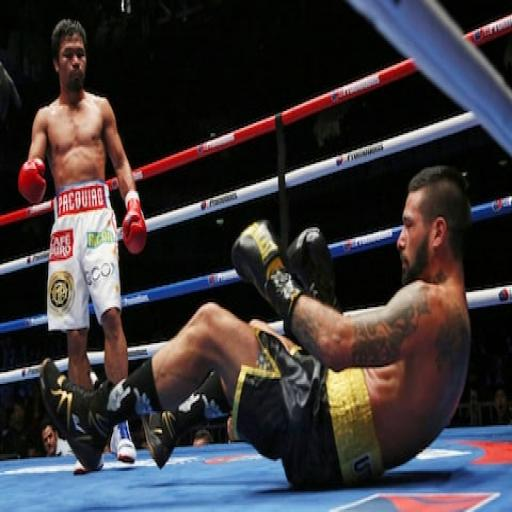boxing: (38, 162, 474, 492), (27, 15, 236, 456)
